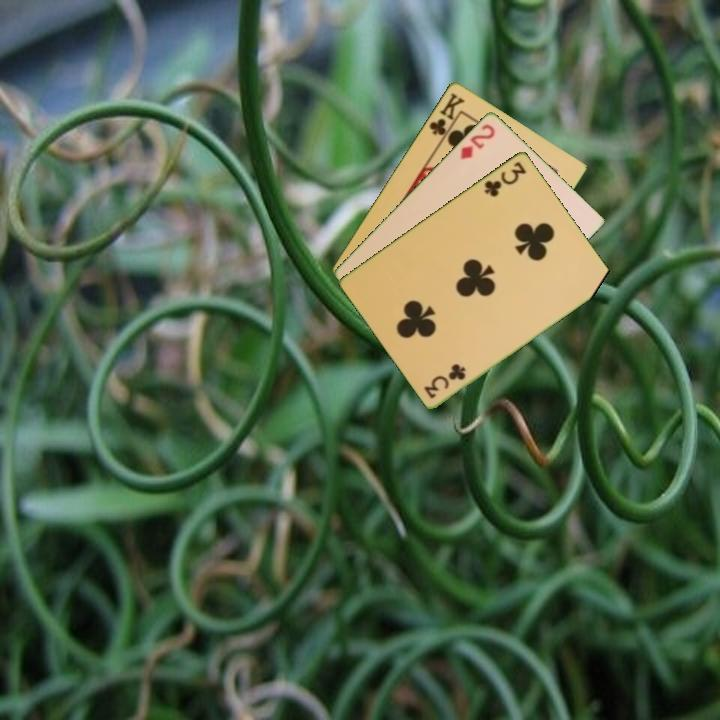2d: (457, 120, 498, 162)
3c: (481, 157, 529, 199), (421, 360, 469, 401)
Kc: (426, 89, 468, 144)
